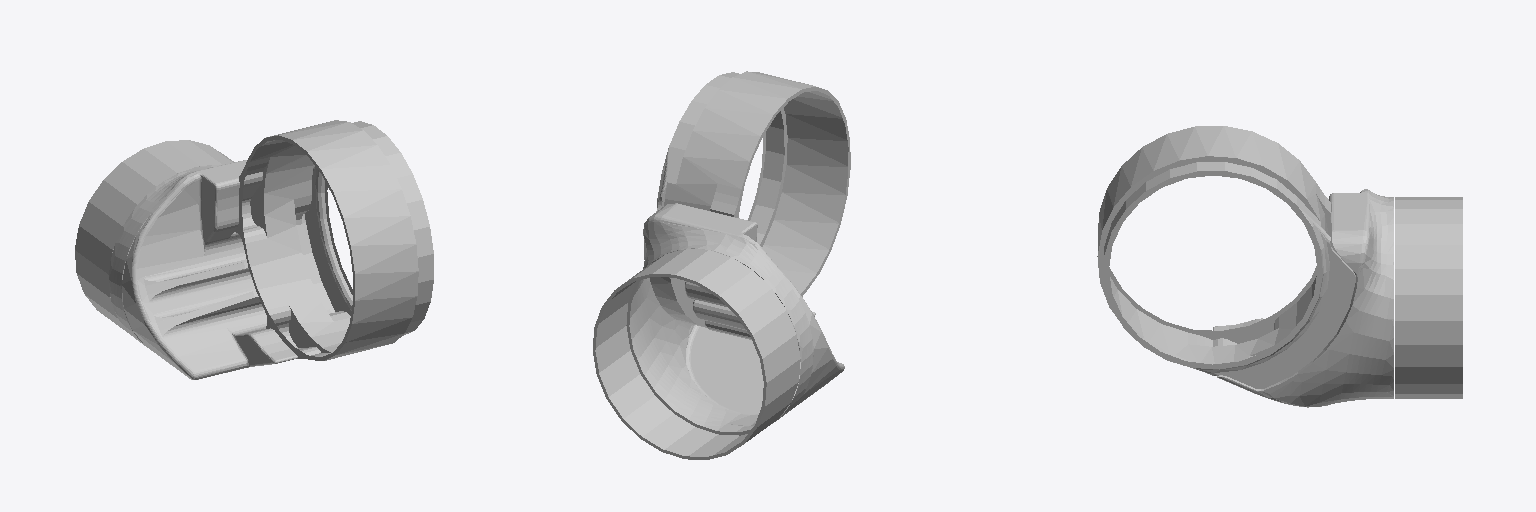
Rendered from RightShoulderRollLink_shortBicep.obj.
The picture shows the model from 3 angles: view 1: azimuth 30°, elevation 25°; view 2: azimuth 150°, elevation 25°; view 3: azimuth 270°, elevation 25°; orthographic projection.
Size of the model in its own units: 0.0899 by 0.1284 by 0.1576.